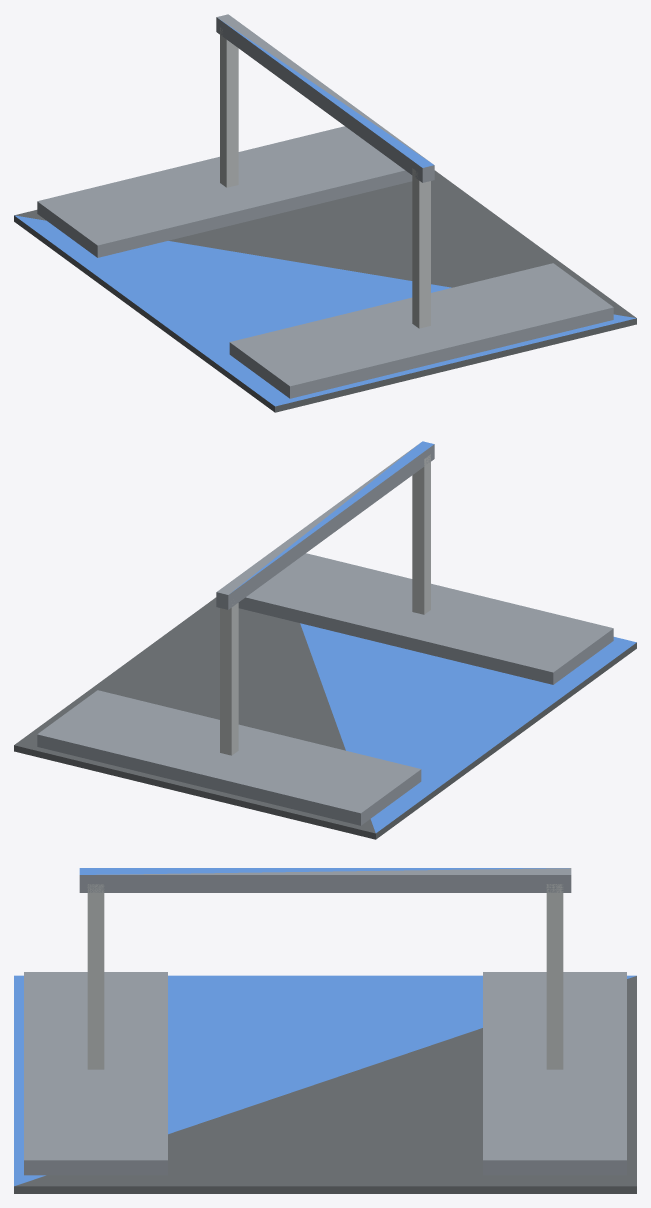
The model's file is veyran_shipyard.glb.
The picture shows the model from 3 angles, top to bottom: view 1: azimuth 30°, elevation 25°; view 2: azimuth 150°, elevation 25°; view 3: azimuth 270°, elevation 25°; orthographic projection. The views are drawn at different scales.
Visible parts, largest first — view 1: hull, crane; view 2: hull, crane; view 3: hull, crane.
Boxes of the visible parts, x1,y1,x2,y2 form: hull: (14,126,636,412); crane: (216,14,434,328); hull: (14,553,636,839); crane: (216,441,434,755); hull: (14,972,636,1193); crane: (79,868,571,1069).
Size of the model in its own units: 15.2 by 7.3 by 19.
